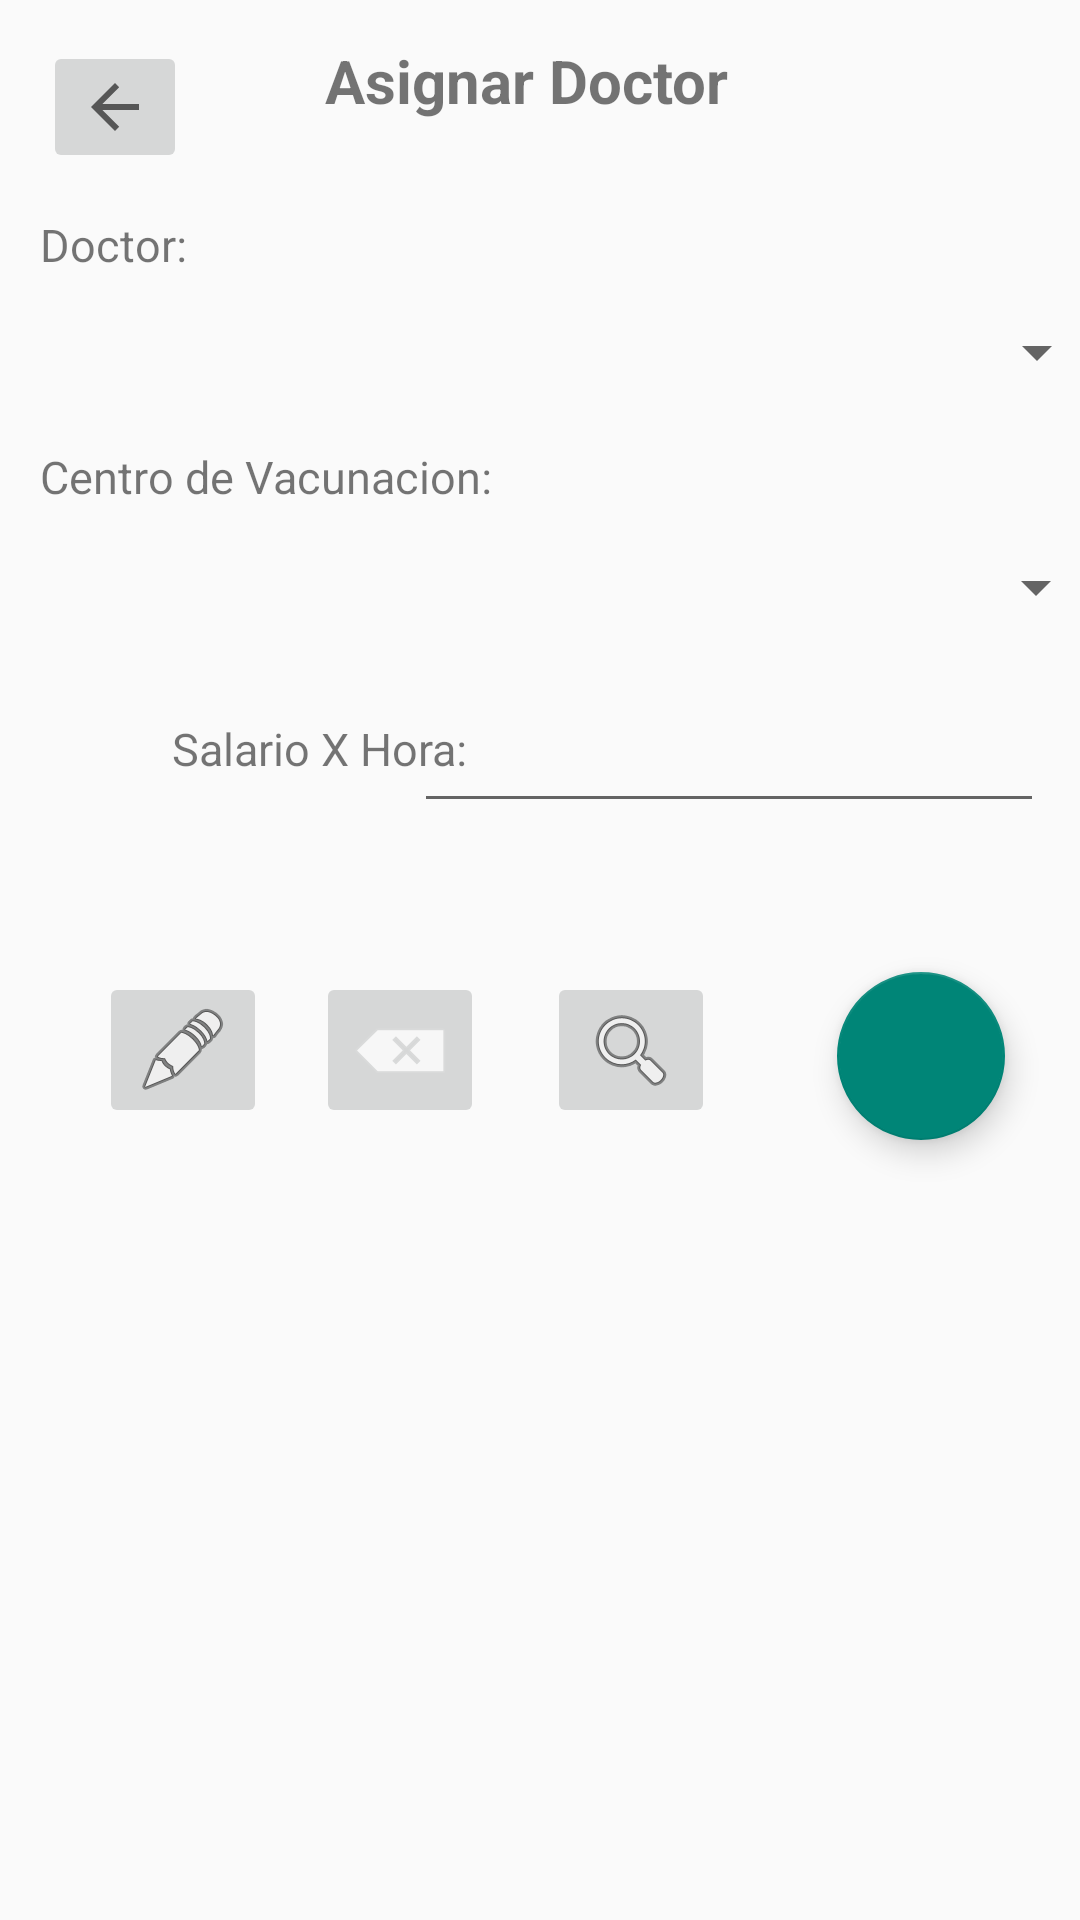

Named icons in this screenshot (1080x1920) and their centers, point (x, y):
delete: point (400, 1050)
edit: point (183, 1050)
search: point (631, 1050)
